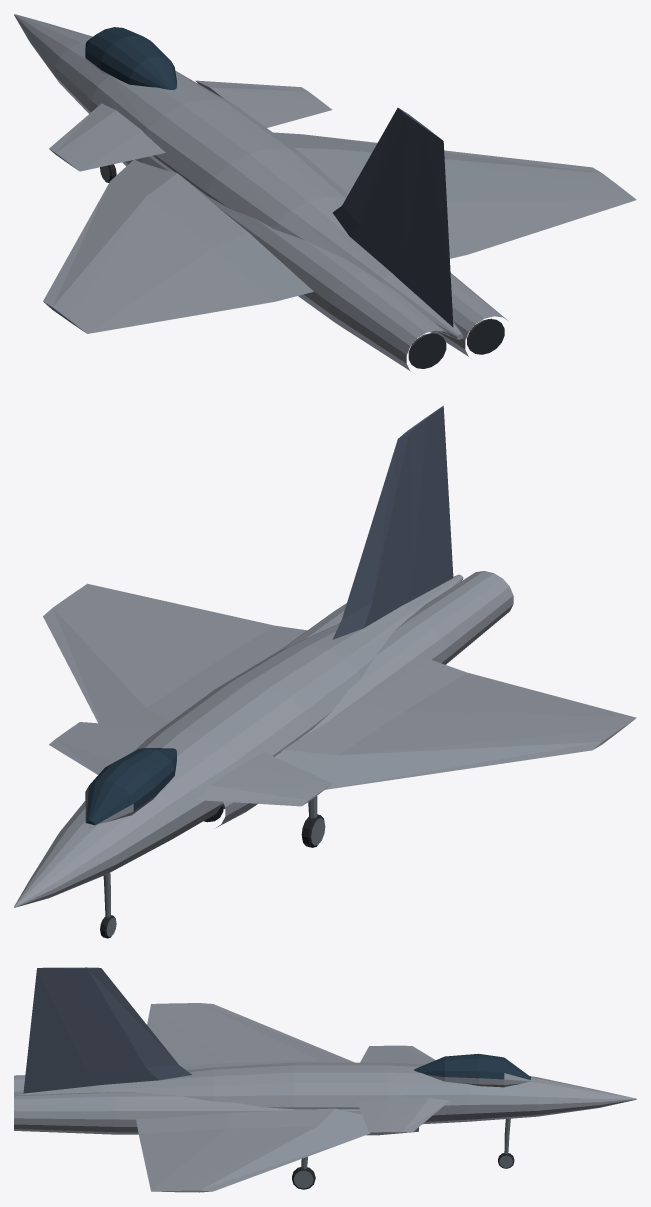
The model's file is rafale.glb.
The picture shows the model from 3 angles, top to bottom: view 1: azimuth 30°, elevation 25°; view 2: azimuth 150°, elevation 25°; view 3: azimuth 270°, elevation 25°; orthographic projection. The views are drawn at different scales.
Visible parts, largest first — view 1: airframe; view 2: airframe, gear; view 3: airframe, gear.
Boxes of the visible parts, bbox=[...] form: airframe: bbox=[14, 14, 636, 371]; airframe: bbox=[14, 405, 636, 907]; gear: bbox=[100, 796, 325, 938]; airframe: bbox=[14, 967, 636, 1192]; gear: bbox=[292, 1118, 514, 1189].
Bounding box in the file's own units: 10.9 × 5.43 × 15.3.
